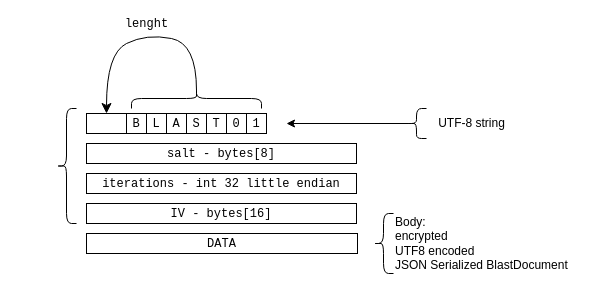
Image size: 611x296. Some labels were removed from this diagram. Here are the shapes that lost their labels. From the top down, the box of each, then its label:
(86, 112, 126, 134): 0x07
(56, 108, 76, 224): header
